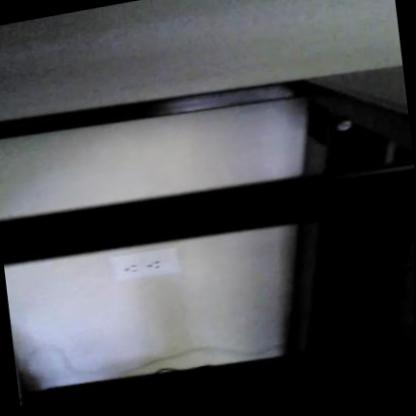OUTLET: (107, 242, 179, 284)
